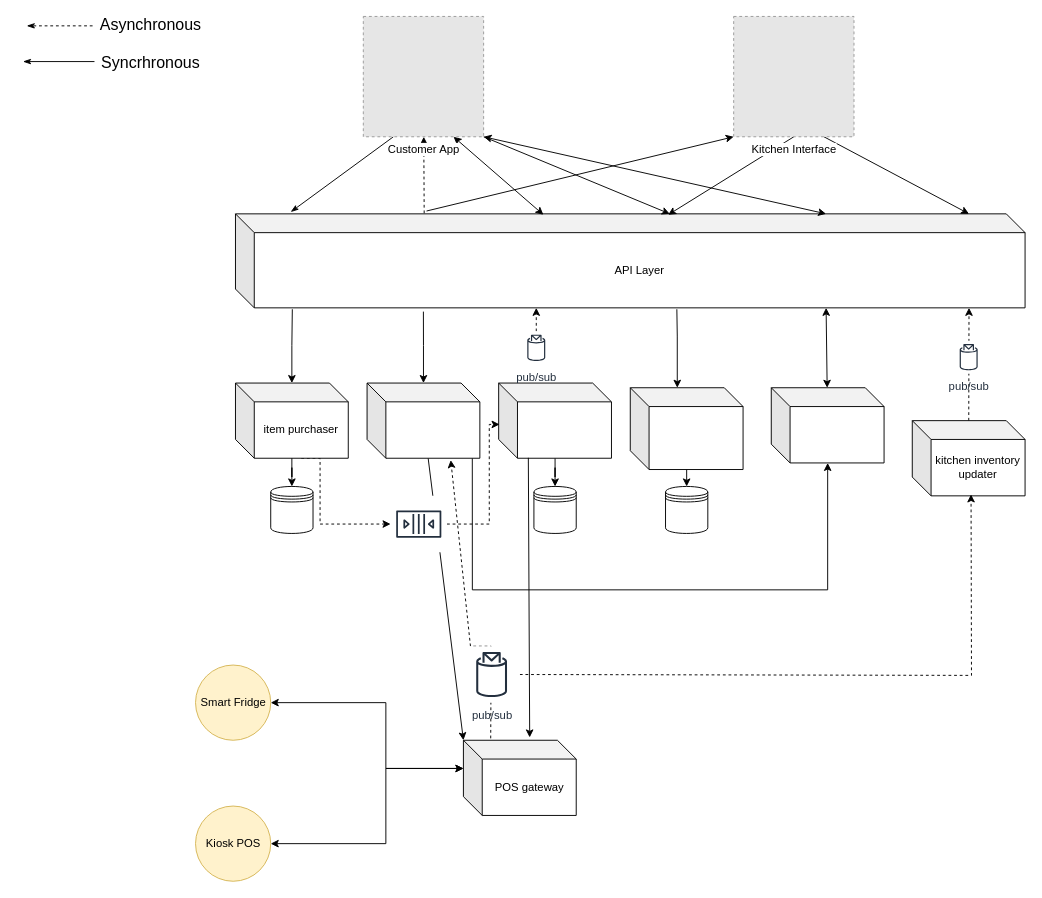
Image size: 1042x898. Some labels were removed from this diagram. Grey dashed boxes stand in for pictures. The centre of each missing label's shape, as x and y in pixels:
discount coupon provider: the point at 827,425
feedback capture: the point at 686,428
inventory browser: the point at 423,420
pickup tracker: the point at 554,420
Queue: the point at 418,523
